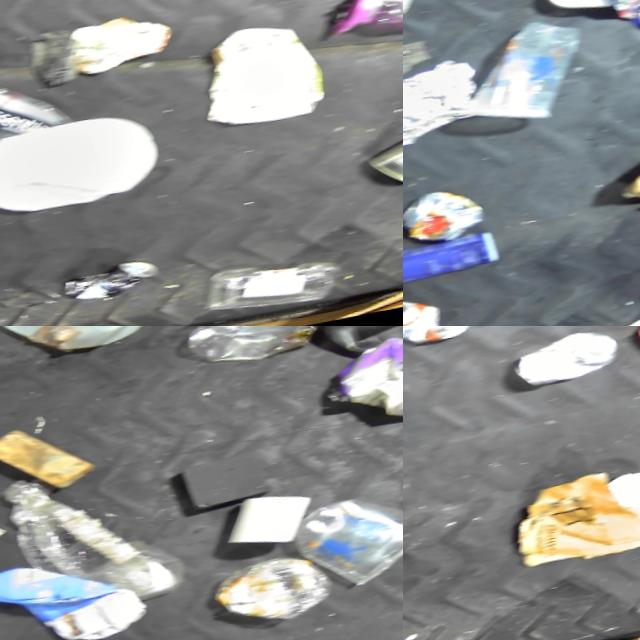can: (509, 329, 622, 395), (403, 187, 491, 251), (60, 258, 163, 309), (362, 120, 403, 193), (403, 326, 480, 358), (595, 0, 640, 46)
milk_jug: (0, 107, 166, 228), (0, 326, 167, 369)
non_white_jug: (306, 326, 403, 353)
plastic_bottle: (1, 459, 190, 630), (183, 326, 324, 373), (403, 36, 438, 108)
